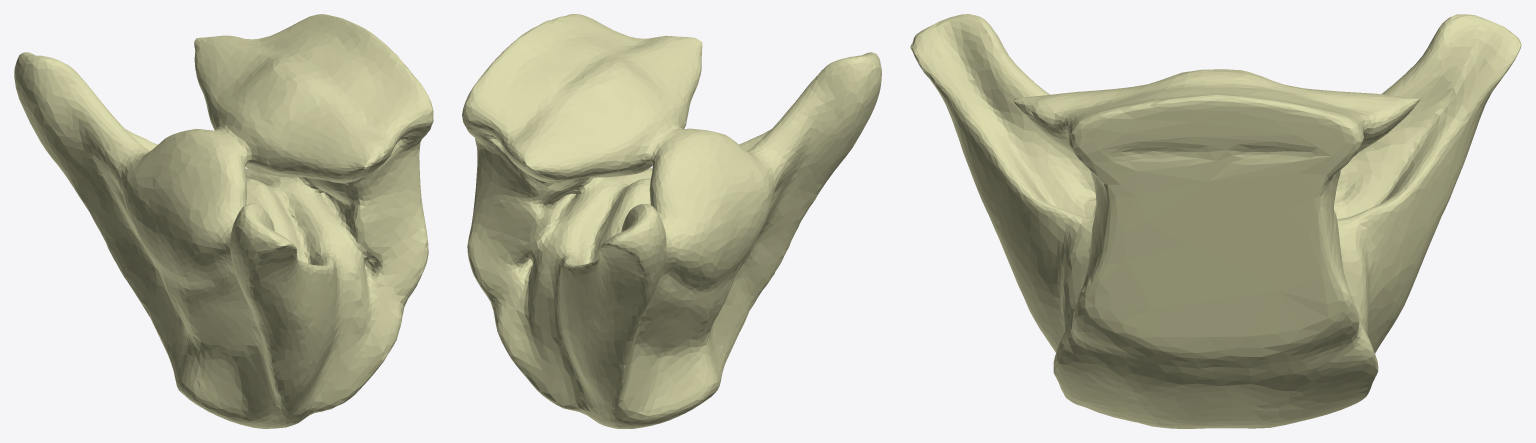
3 renders of one model, left to right at view 1: azimuth 30°, elevation 25°; view 2: azimuth 150°, elevation 25°; view 3: azimuth 270°, elevation 25°, orthographic. The views are drawn at different scales.
Parts seen in each view (by area): view 1: 645.obj; view 2: 645.obj; view 3: 645.obj.
Boxes of the visible parts, x1,y1,x2,y2 form: 645.obj: (14, 14, 433, 428); 645.obj: (462, 14, 881, 428); 645.obj: (910, 14, 1521, 428).
Bounding box in the file's own units: 3206 × 4188 × 5786.
